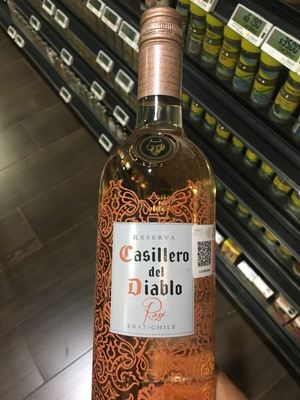casillero del diablo rose: (86, 17, 226, 400)
